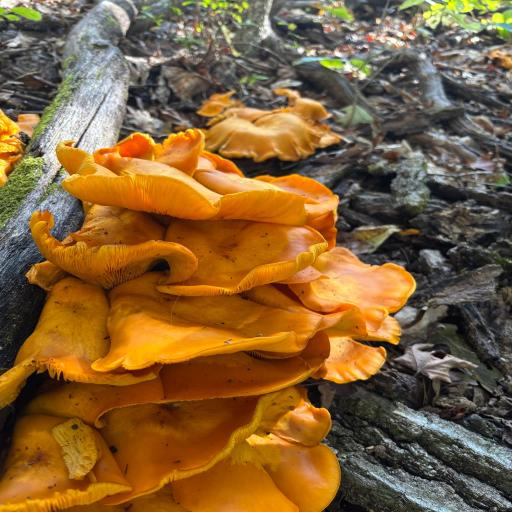Jack O Lantern Mushroom: (0, 376, 351, 512), (0, 283, 345, 402), (29, 127, 349, 239), (12, 198, 351, 296), (297, 238, 428, 399), (200, 89, 339, 163), (0, 98, 41, 185)
